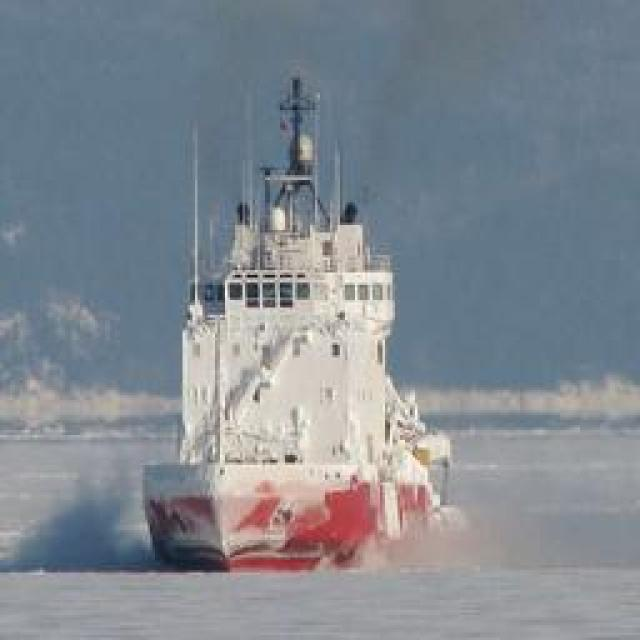CIV_Ship: (144, 85, 458, 573)
